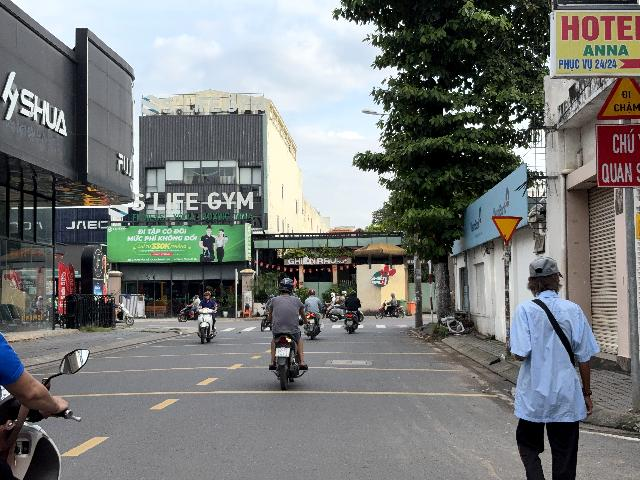giao-nhau-voi-duong-uu-tien: (491, 215, 523, 244)
